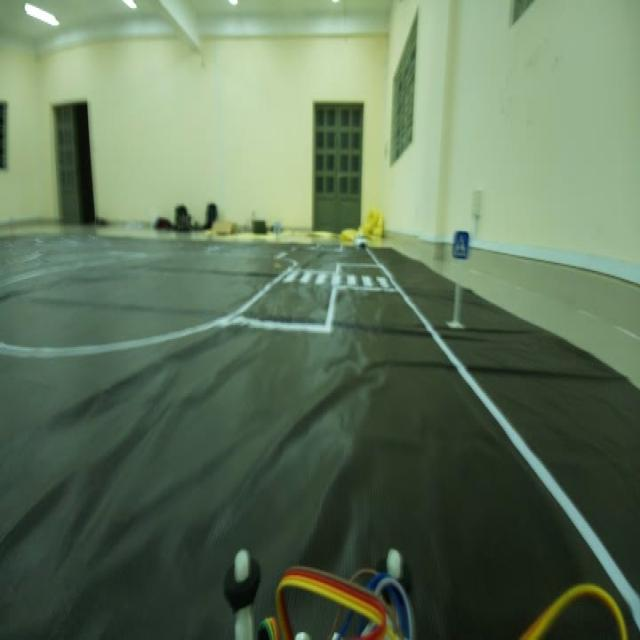crosswalk: (448, 224, 477, 270)
